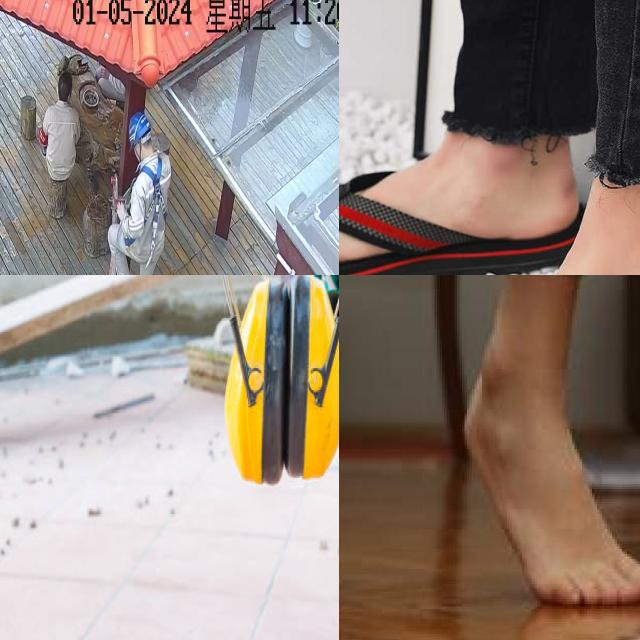Barefoots: (457, 356, 640, 632)
Ear-protection: (191, 275, 339, 493)
Harness: (140, 158, 169, 248)
Sandals: (339, 141, 580, 275)
